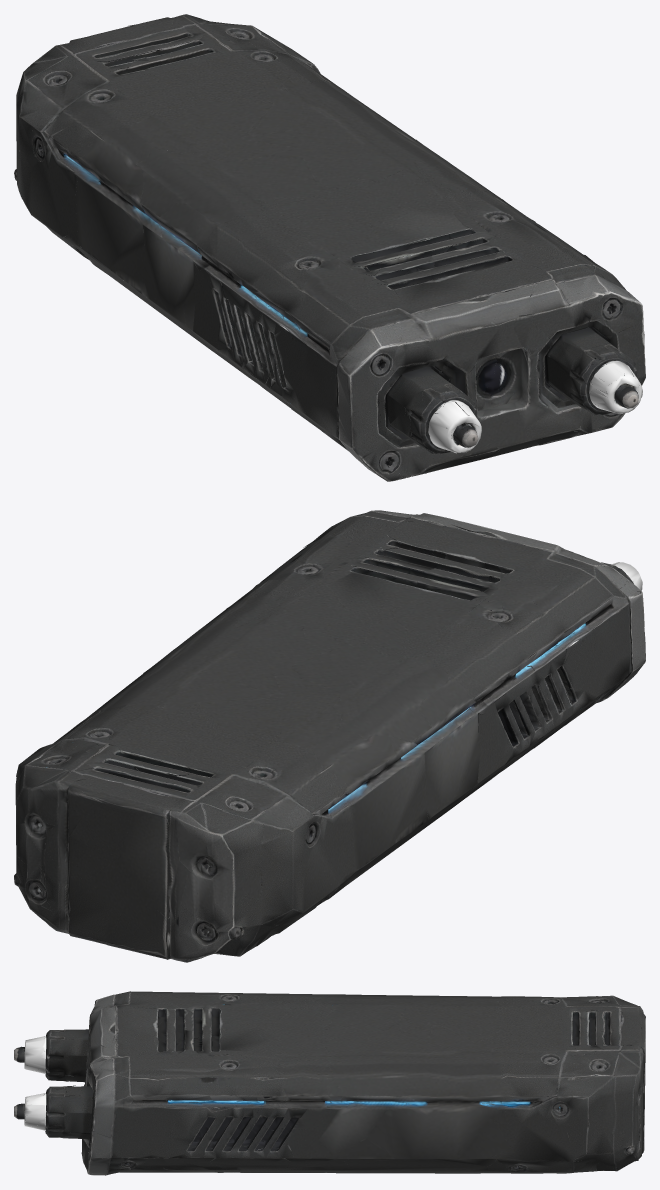
The model's file is shinrai_stun_gun.glb.
3 views of the same model, one above another, from view 1: azimuth 30°, elevation 25°; view 2: azimuth 150°, elevation 25°; view 3: azimuth 270°, elevation 25° (orthographic). The views are drawn at different scales.
Visible parts, largest first — view 1: ShinraiMeshyStunGun; view 2: ShinraiMeshyStunGun; view 3: ShinraiMeshyStunGun.
Part boxes in pixels (x1,y1,x2,y2): ShinraiMeshyStunGun: [14, 14, 645, 481]; ShinraiMeshyStunGun: [14, 510, 645, 962]; ShinraiMeshyStunGun: [14, 991, 645, 1175].
Size of the model in its own units: 0.0643 by 0.0324 by 0.165.
1 material, 1 textured.
